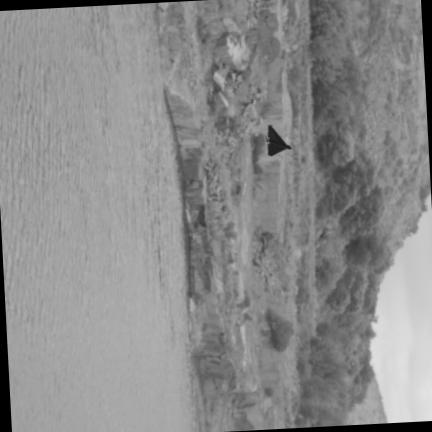Shahed: (265, 125, 292, 156)
